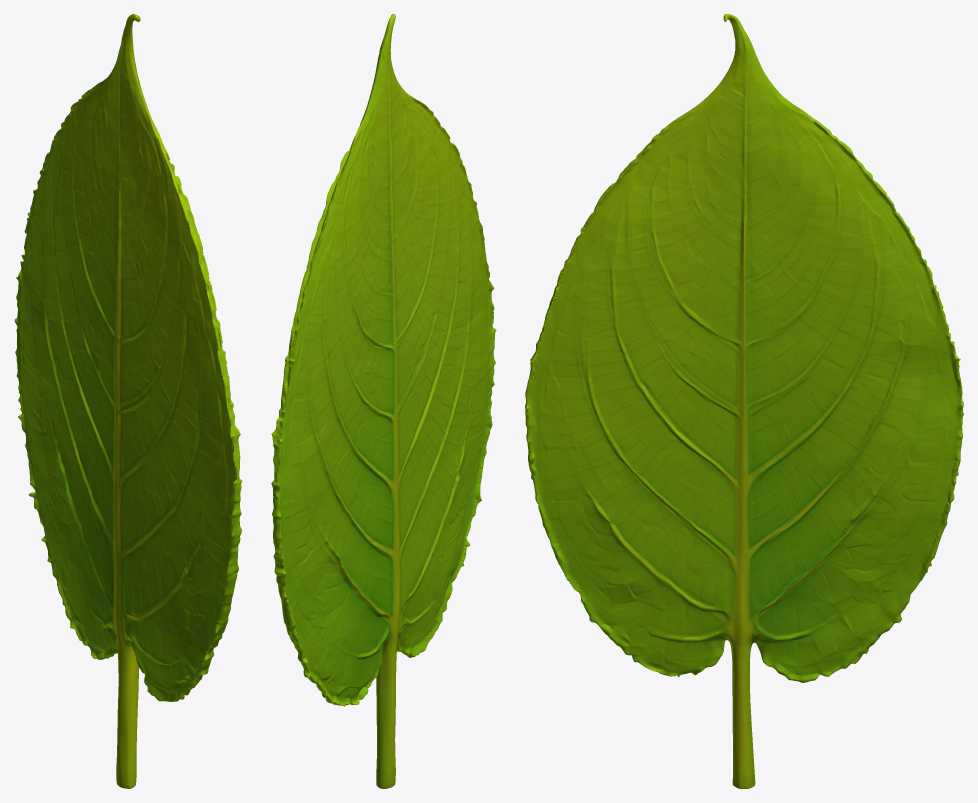
The model's file is leaf+3d+model.glb.
The picture shows the model from 3 angles, left to right: view 1: azimuth 30°, elevation 25°; view 2: azimuth 150°, elevation 25°; view 3: azimuth 270°, elevation 25°; orthographic projection.
Visible parts, largest first — view 1: tripo_node_3605b6ad-504b-4947-b72d-c38453027164; view 2: tripo_node_3605b6ad-504b-4947-b72d-c38453027164; view 3: tripo_node_3605b6ad-504b-4947-b72d-c38453027164.
Boxes of the visible parts, box(x1,y1,x2,y2) form: tripo_node_3605b6ad-504b-4947-b72d-c38453027164: box(14, 14, 242, 788); tripo_node_3605b6ad-504b-4947-b72d-c38453027164: box(271, 14, 496, 788); tripo_node_3605b6ad-504b-4947-b72d-c38453027164: box(525, 14, 963, 788).
Size of the model in its own units: 0.0338 by 1 by 0.5154.
Materials: 1 (1 with a texture image).
